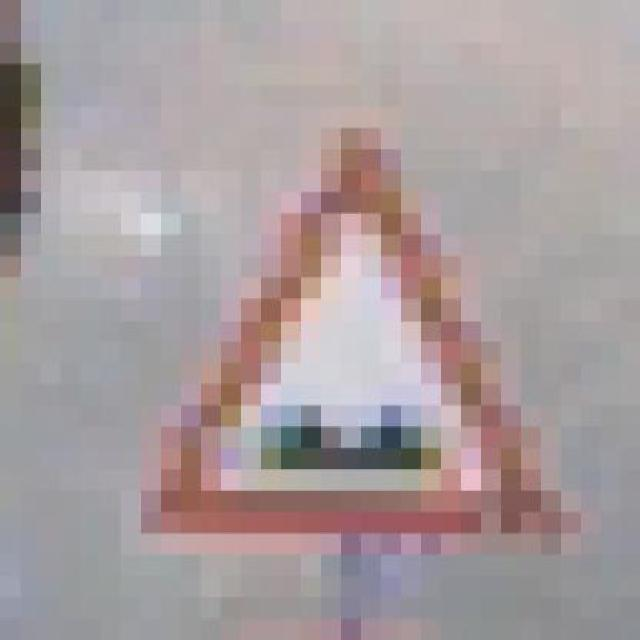Uneven Road: (140, 107, 560, 555)
